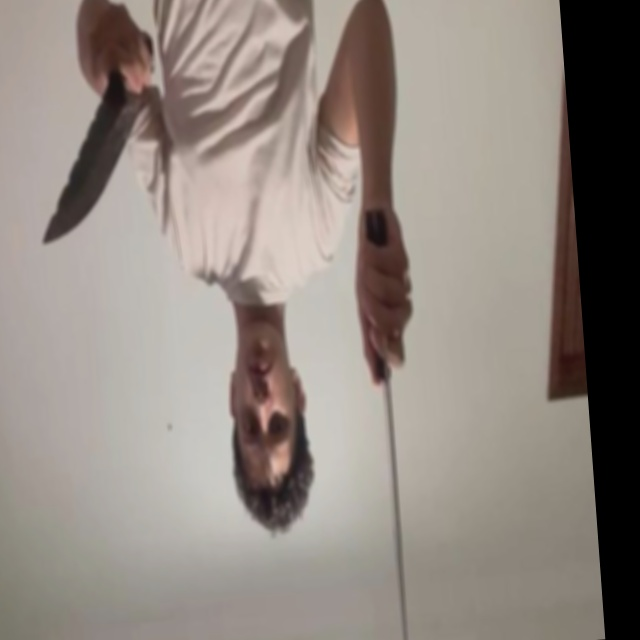Sharp-Object: (33, 95, 149, 244), (381, 350, 411, 640)
